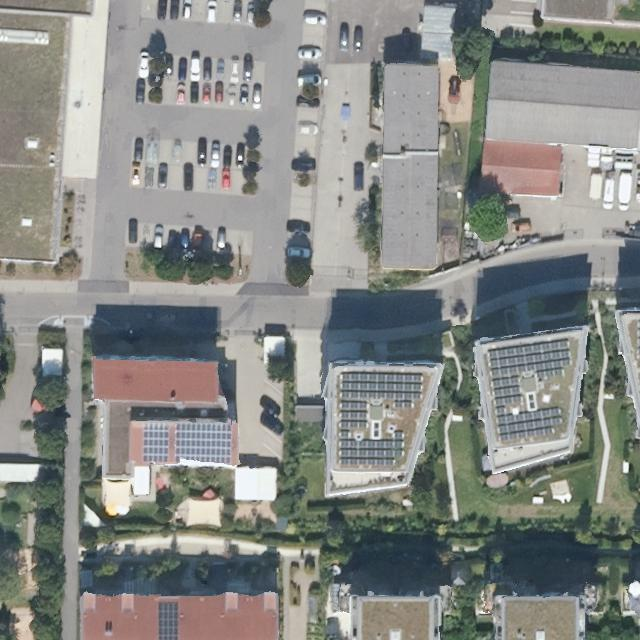PV: (483, 336, 575, 446), (337, 370, 425, 467), (174, 421, 235, 467), (140, 420, 171, 466), (155, 597, 181, 639)
